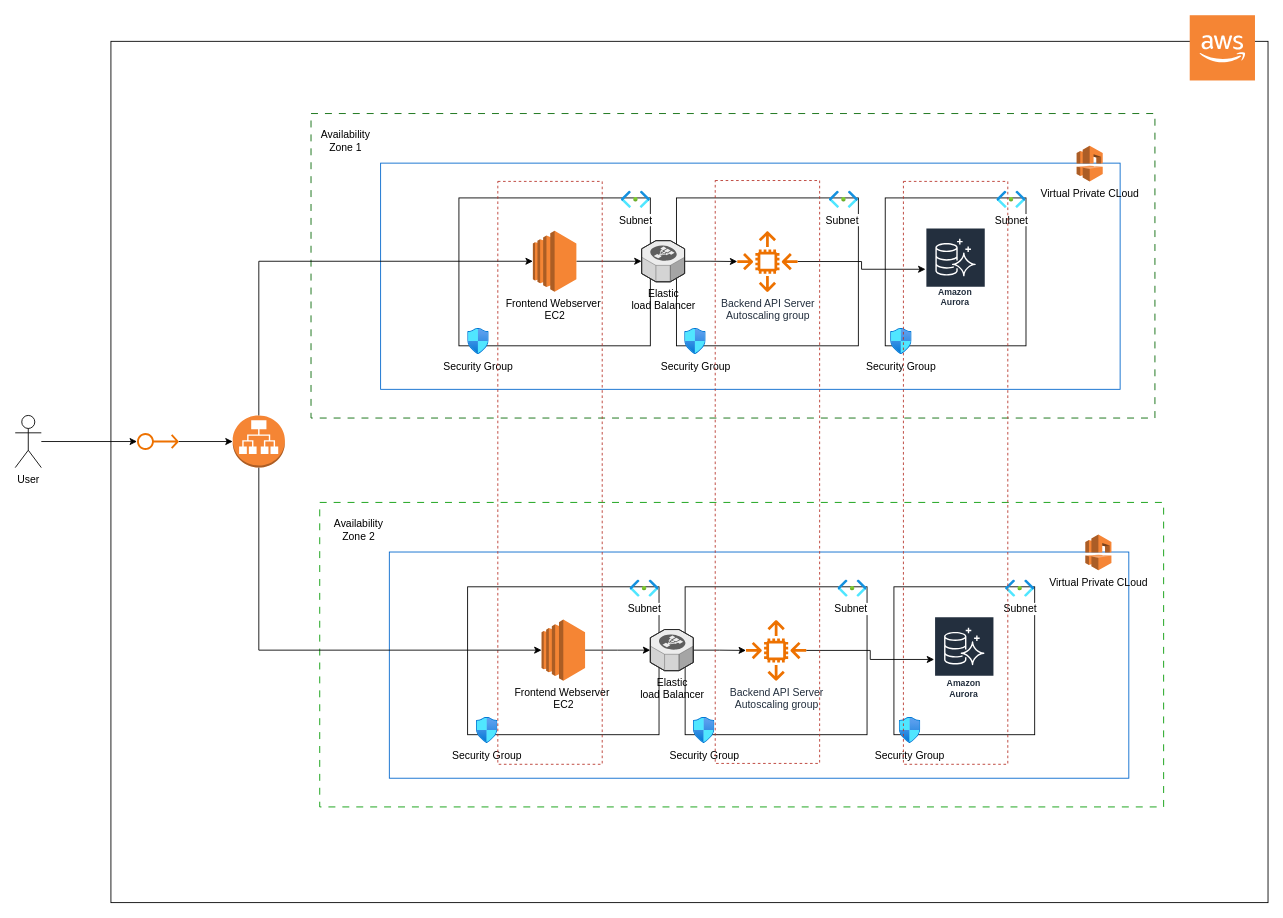
The diagram is 1283 pixels wide and 918 high, and some of its shapes have lost their labels. The centre of each missing label's shape, as x and y in pixels:
"Application Load Balancer" goes at point 258,441.
"Elastic IP" goes at point 157,441.
